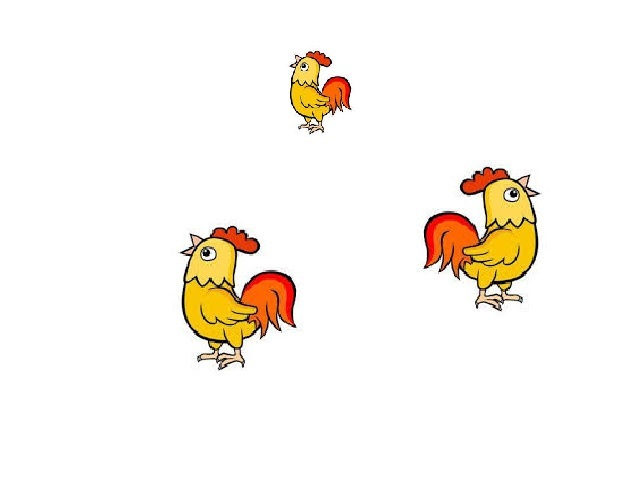crown: (214, 224, 262, 256), (457, 166, 508, 192), (307, 51, 333, 64)
eyes: (201, 245, 217, 265), (504, 188, 522, 204), (301, 61, 308, 71)
feet: (193, 343, 253, 370), (476, 287, 525, 313), (300, 122, 325, 133)
tail: (238, 272, 303, 342), (426, 207, 478, 276), (322, 78, 351, 113)
